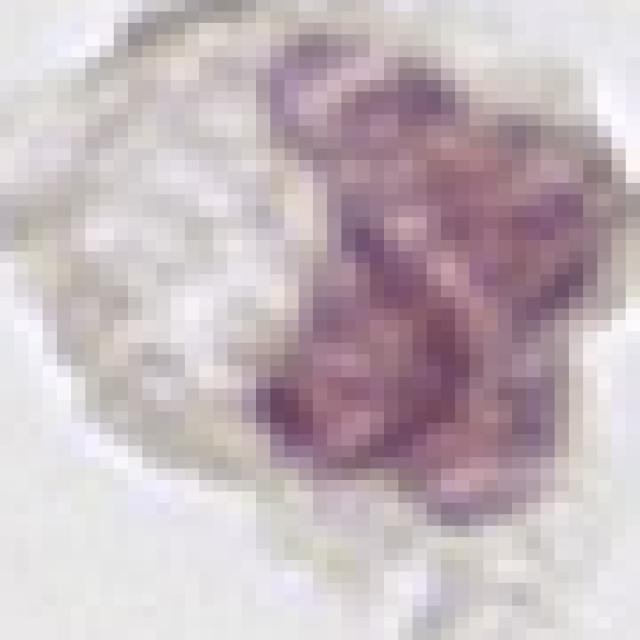cytoplasm: (10, 0, 626, 629)
